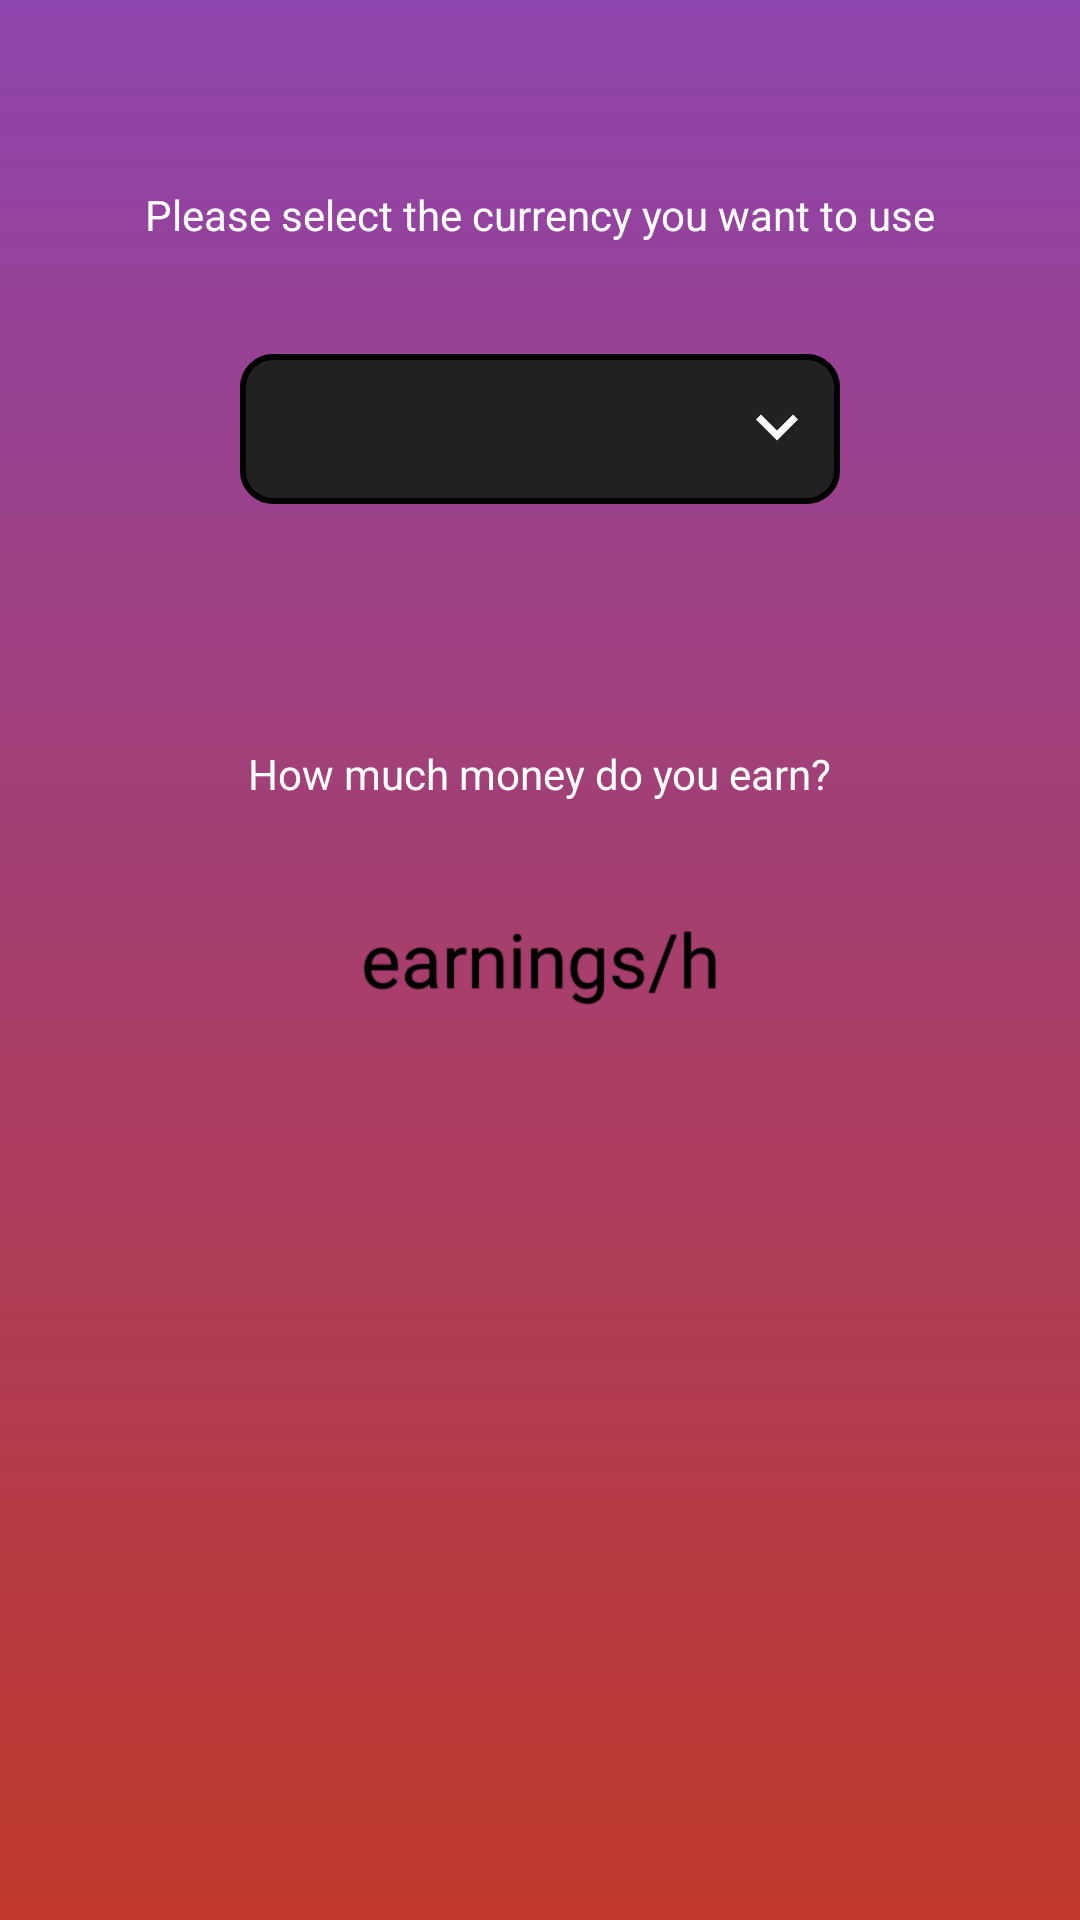

Where icons sit on this 1080 x 1920 app screen, as (x1, y1, x2, y2):
arrow down image for the currency spinner: (756, 414, 798, 441)
